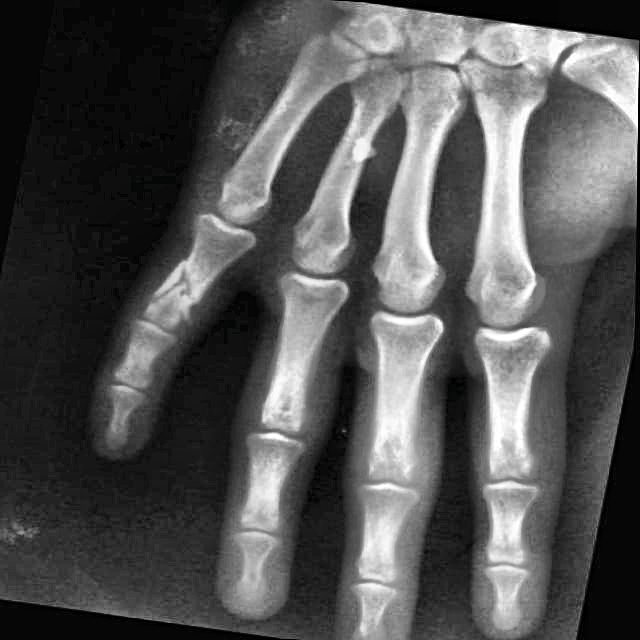Comminuted: (127, 258, 216, 342)
